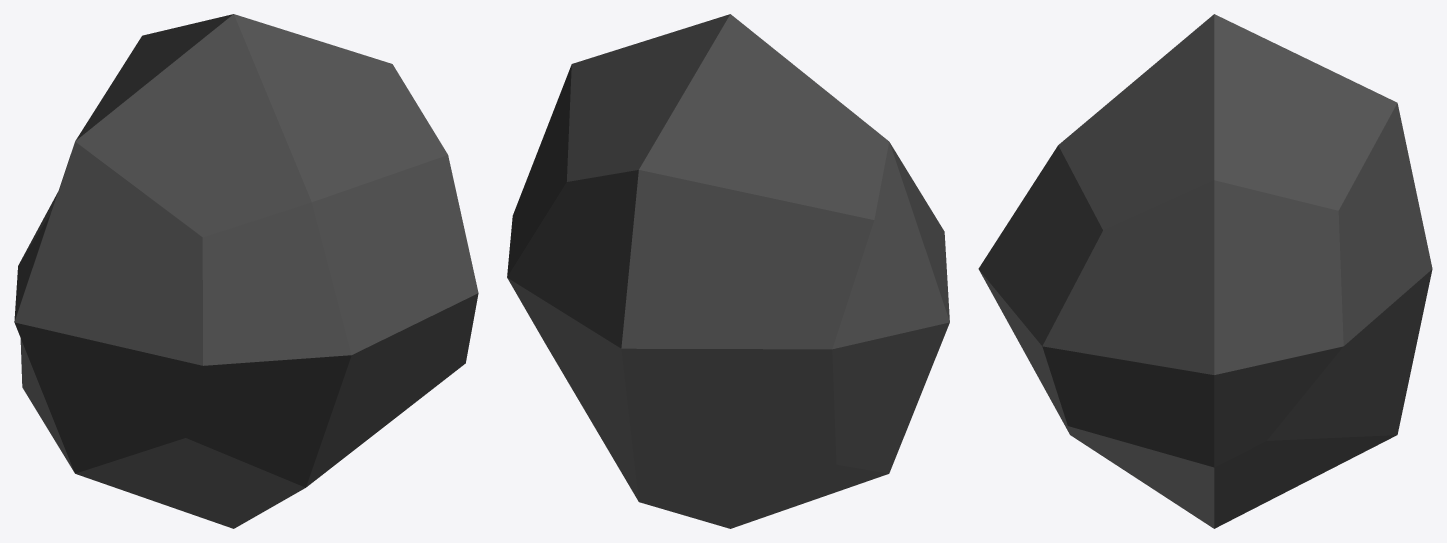
Rendered from miniStone.obj.
3 views of the same model, side by side, from view 1: azimuth 30°, elevation 25°; view 2: azimuth 150°, elevation 25°; view 3: azimuth 270°, elevation 25° (orthographic).
Parts seen in each view (by area): view 1: 立方体; view 2: 立方体; view 3: 立方体.
Boxes of the visible parts, x1,y1,x2,y2 form: 立方体: (14,14,478,528); 立方体: (507,14,949,528); 立方体: (978,14,1432,528).
Size of the model in its own units: 2.75 by 3.1 by 2.48.
Materials: 1 (1 with a texture image).
